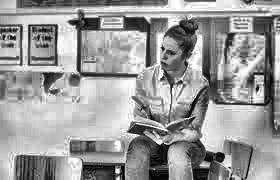angry: (154, 23, 202, 80)
